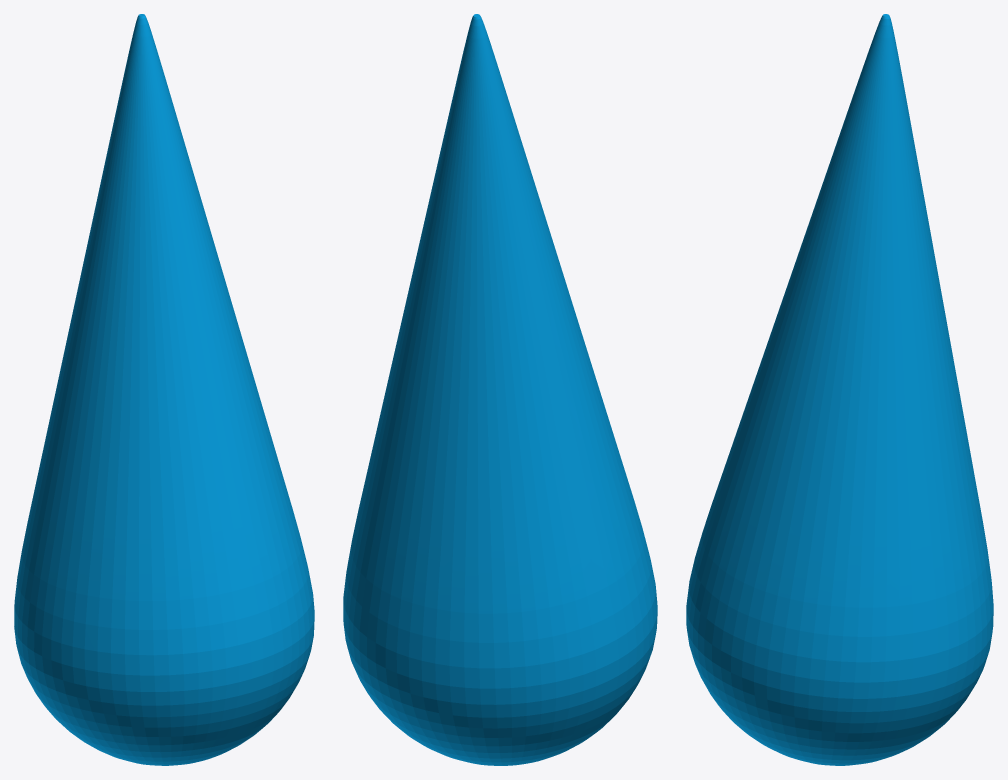
The model's file is rain.obj.
The picture shows the model from 3 angles, left to right: view 1: azimuth 30°, elevation 25°; view 2: azimuth 150°, elevation 25°; view 3: azimuth 270°, elevation 25°; orthographic projection. The views are drawn at different scales.
Visible parts, largest first — view 1: BallCone_1; view 2: BallCone_1; view 3: BallCone_1.
Part boxes in pixels (x1,y1,x2,y2): BallCone_1: [14, 14, 314, 765]; BallCone_1: [343, 14, 657, 765]; BallCone_1: [686, 14, 993, 765].
Size of the model in its own units: 0.1273 by 0.3366 by 0.1272.
1 material, 1 textured.
